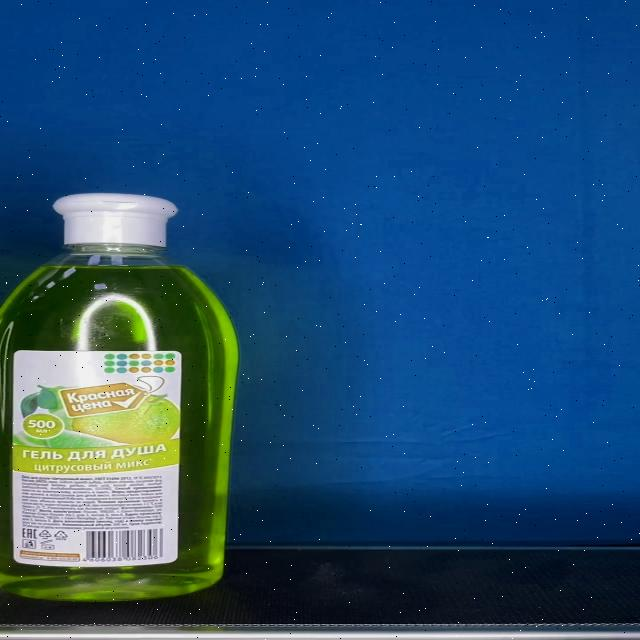Bottle: (0, 193, 239, 601)
Cap: (53, 193, 178, 246)
